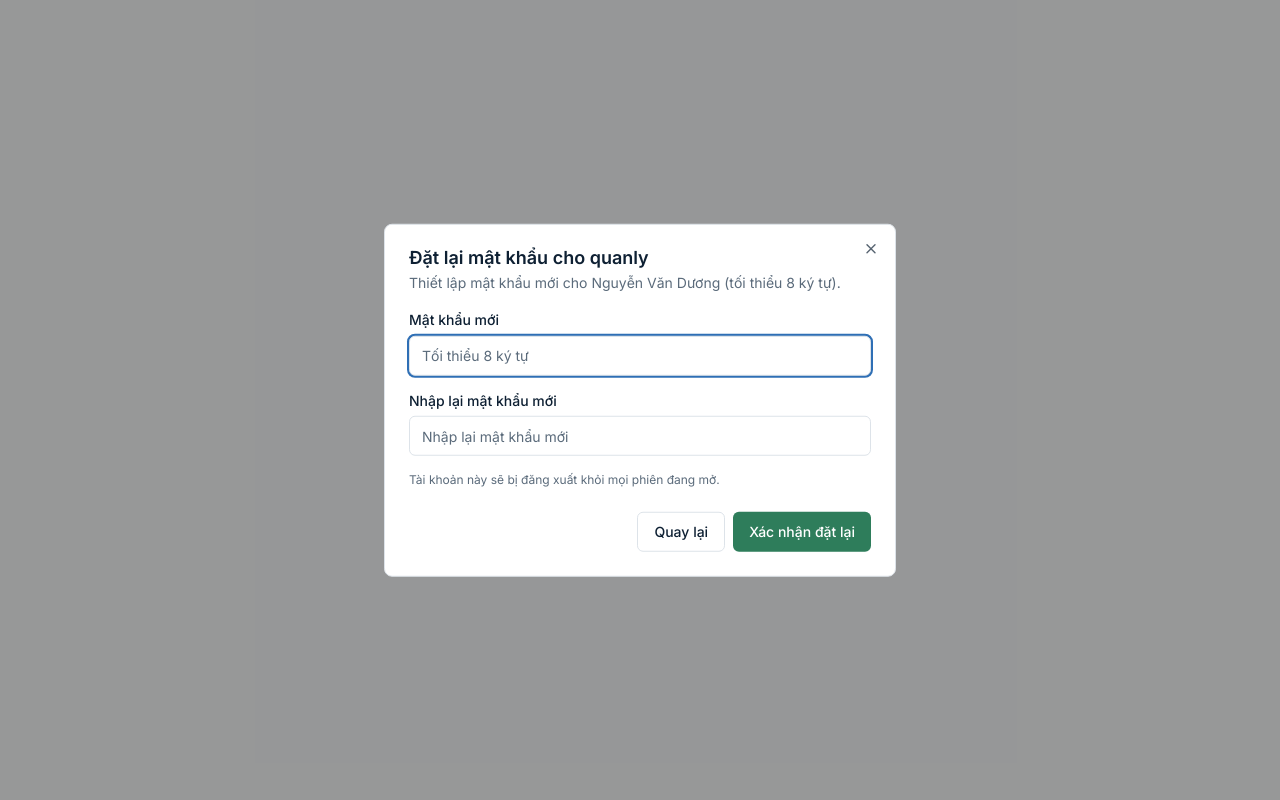
Test: ResetPasswordDialog (T-020 AC6) › hiển thị hộp ghi chú đăng xuất mọi phiên và validate độ dài/khớp trước khi gửi API
The width and height of the screenshot is (1280, 800).
Expected: the text "Tài khoản này sẽ bị đăng xuất khỏi mọi phiên đang mở." is shown, top-left (409, 472), bottom-right (720, 487)
Step 1. Type "1234567" into the password field labelled "Mật khẩu mới" → x=640, y=355, box top-left (409, 335), bottom-right (871, 375)
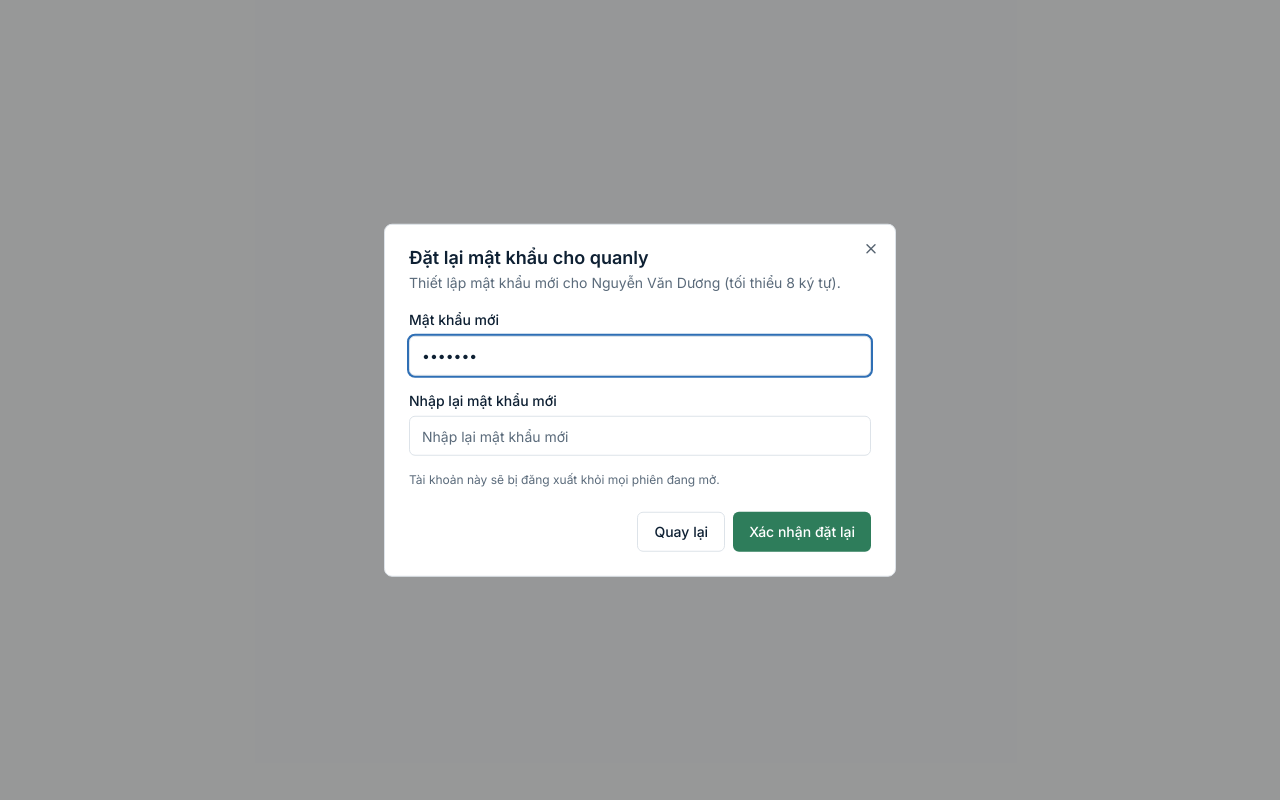
Step 2. Type "khacnhau" into the password field labelled "Nhập lại mật khẩu mới" → x=640, y=436, box top-left (409, 416), bottom-right (871, 456)
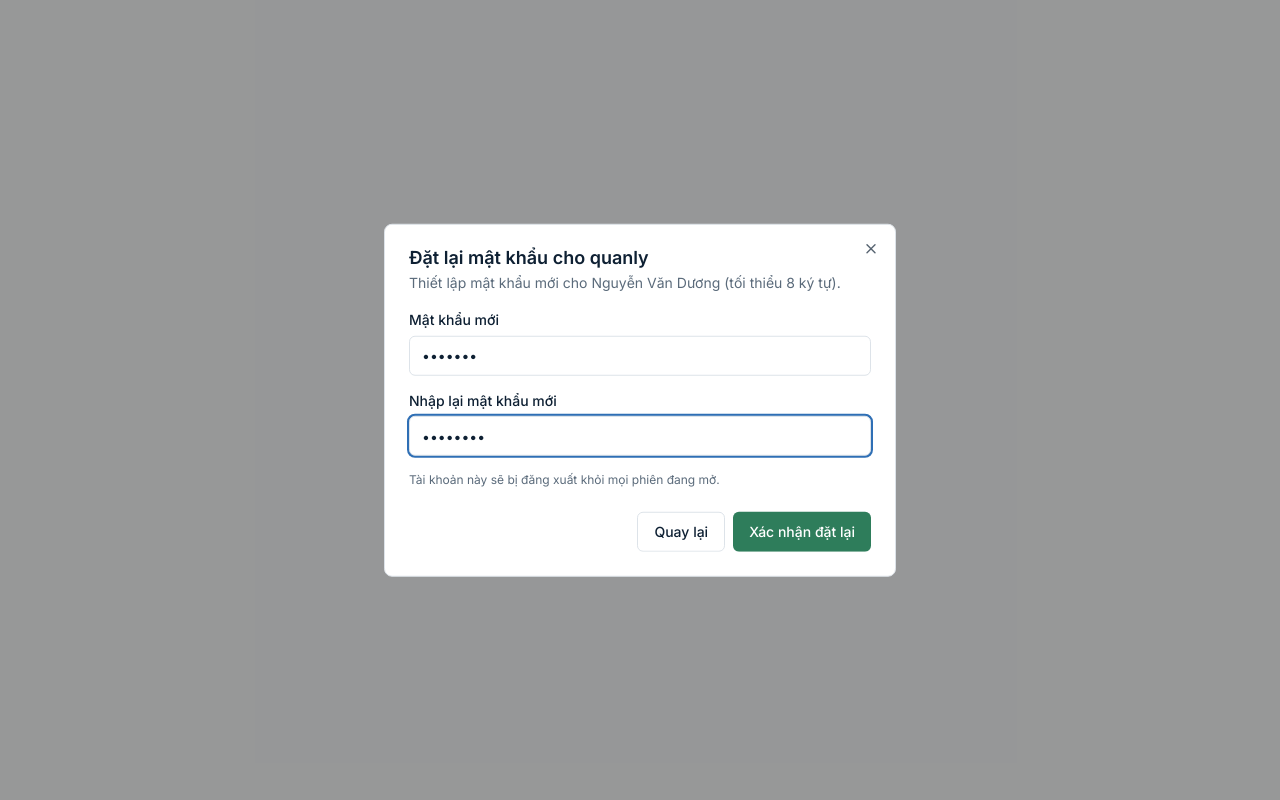
Step 3. Click the button "Xác nhận đặt lại" → x=802, y=531, box top-left (733, 511), bottom-right (871, 551)
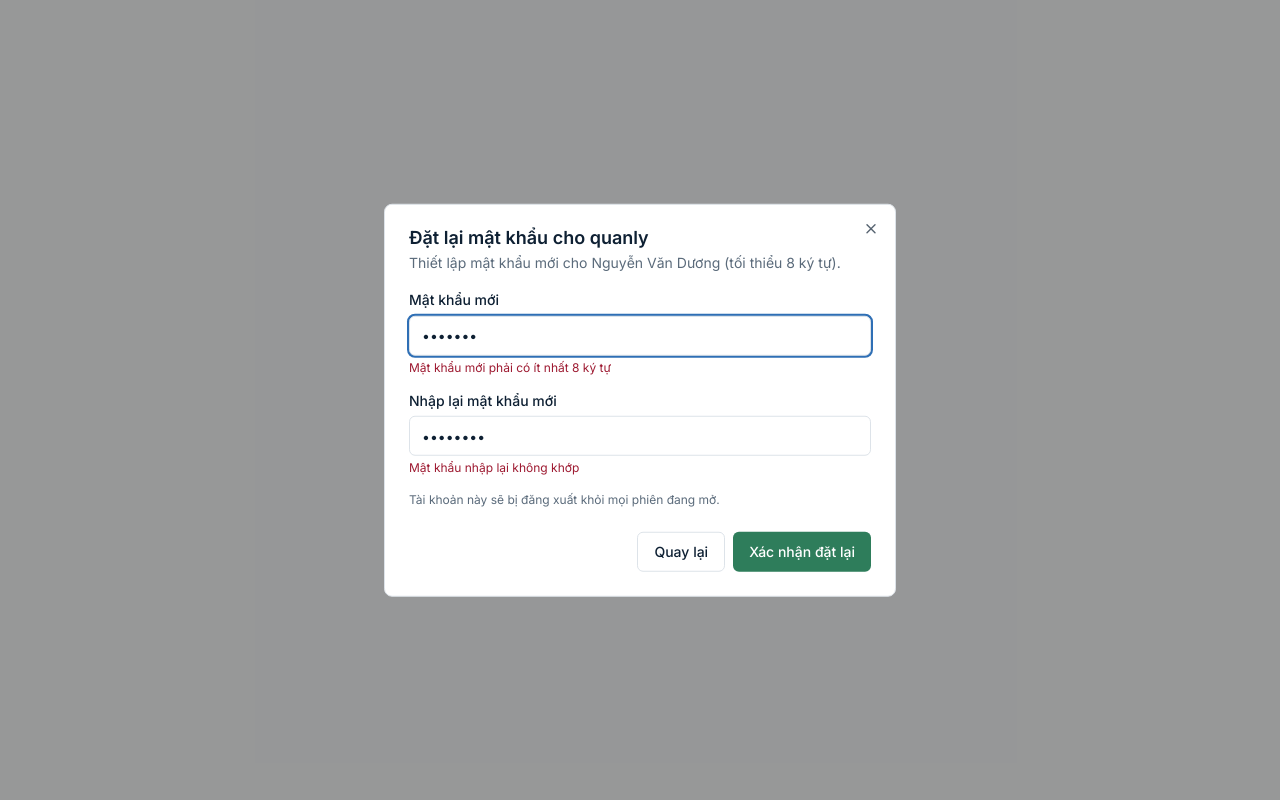
Result: the text "Mật khẩu mới phải có ít nhất 8 ký tự" is shown at top-left (409, 359), bottom-right (611, 374)
Result: the text "Mật khẩu nhập lại không khớp" is shown at top-left (409, 460), bottom-right (579, 475)
